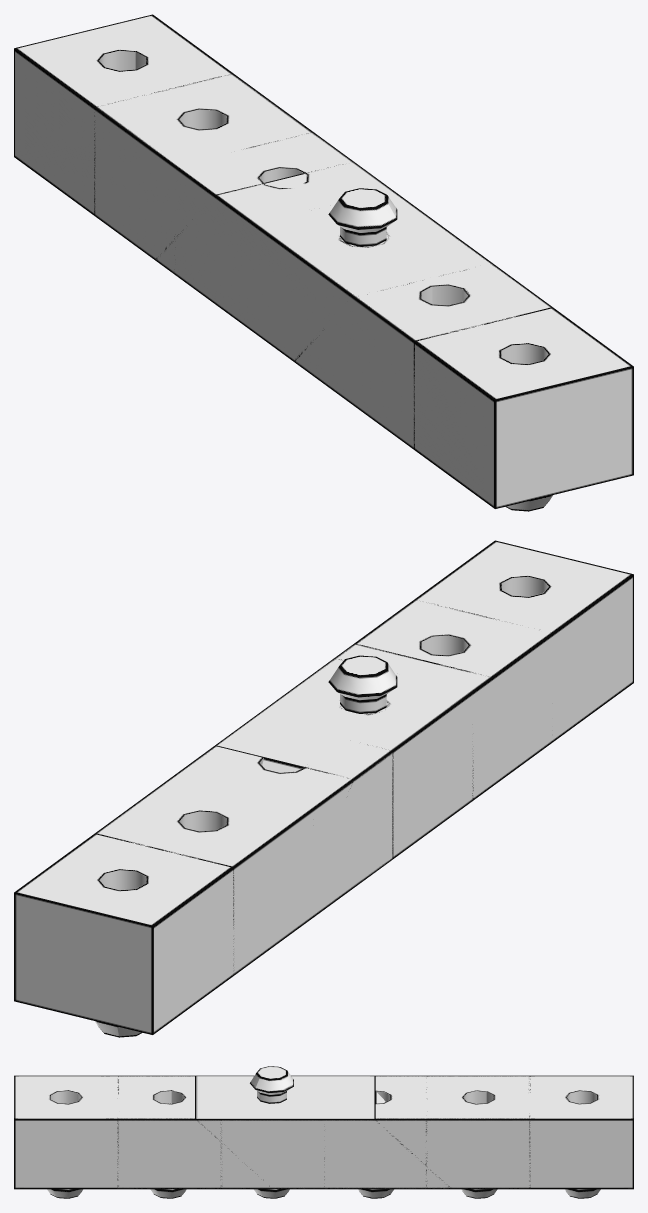
Rendered from minibrix_Kit.fbx.
3 renders of one model, top to bottom at view 1: azimuth 30°, elevation 25°; view 2: azimuth 150°, elevation 25°; view 3: azimuth 270°, elevation 25°, orthographic. The views are drawn at different scales.
Visible parts, largest first — view 1: minibrix_triple_lintel LOD0, minibrix_double_lintel LOD0, minibrix_bracing LOD0, minibrix_whole_lintel LOD0, minibrix_half LOD0; view 2: minibrix_triple_lintel LOD0, minibrix_double_lintel LOD0, minibrix_bracing LOD0, minibrix_half LOD0, minibrix_whole_lintel LOD0; view 3: minibrix_triple_lintel LOD0, minibrix_double_lintel LOD0, minibrix_bracing LOD0, minibrix_whole_lintel LOD0, minibrix_triple LOD0, minibrix_half LOD0.
Part boxes in pixels (x1,y1,x2,y2): minibrix_triple_lintel LOD0: [14, 14, 633, 508]; minibrix_double_lintel LOD0: [94, 73, 553, 450]; minibrix_bracing LOD0: [155, 161, 478, 362]; minibrix_whole_lintel LOD0: [175, 132, 412, 306]; minibrix_half LOD0: [176, 136, 355, 289]; minibrix_triple_lintel LOD0: [14, 540, 633, 1034]; minibrix_double_lintel LOD0: [94, 600, 552, 975]; minibrix_bracing LOD0: [215, 643, 489, 886]; minibrix_half LOD0: [326, 744, 393, 892]; minibrix_whole_lintel LOD0: [230, 658, 473, 855]; minibrix_triple_lintel LOD0: [14, 1075, 633, 1189]; minibrix_double_lintel LOD0: [117, 1075, 530, 1189]; minibrix_bracing LOD0: [195, 1066, 451, 1189]; minibrix_whole_lintel LOD0: [220, 1075, 426, 1189]; minibrix_triple LOD0: [47, 1189, 600, 1198]; minibrix_half LOD0: [324, 1075, 427, 1188].
Size of what is drawn, in the model's own units: 0.0127 by 0.0762 by 0.0162.
Materials: 1 (1 with a texture image).
